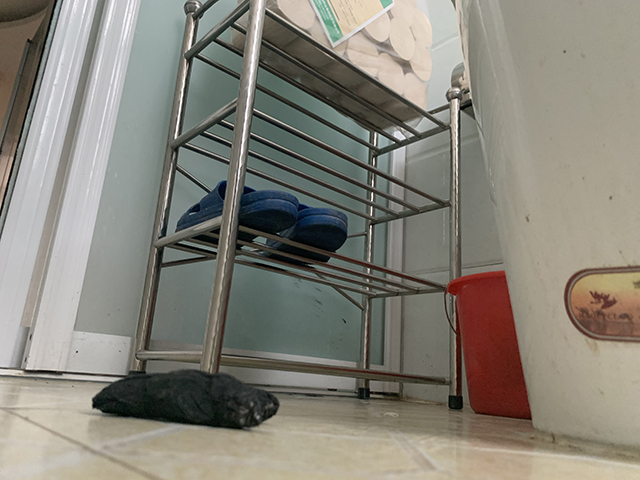feces: (88, 368, 282, 431)
